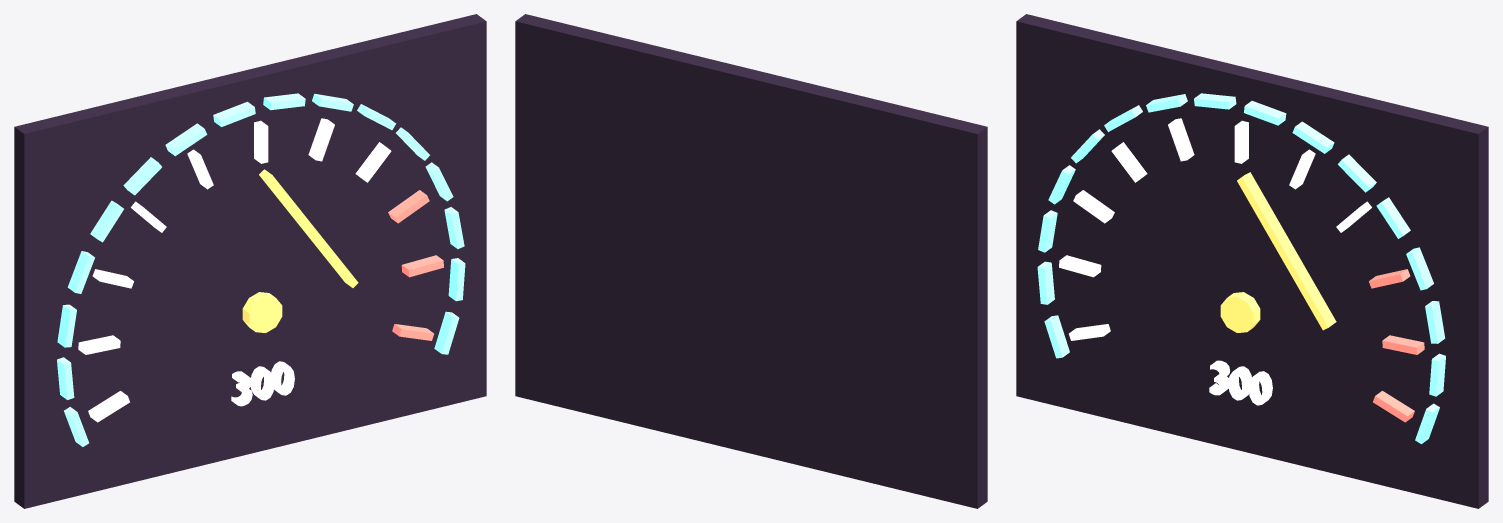
File: neon_speed.glb
3 views of the same model, side by side, from view 1: azimuth 30°, elevation 25°; view 2: azimuth 150°, elevation 25°; view 3: azimuth 330°, elevation 25° (orthographic).
Parts seen in each view (by area): view 1: neon_speed; view 2: neon_speed; view 3: neon_speed.
Boxes of the visible parts, left/top/right/bottom form: neon_speed: left=14, top=14, right=486, bottom=508; neon_speed: left=515, top=14, right=987, bottom=508; neon_speed: left=1016, top=14, right=1488, bottom=508.
Size of the model in its own units: 0.8 by 0.62 by 0.063.
